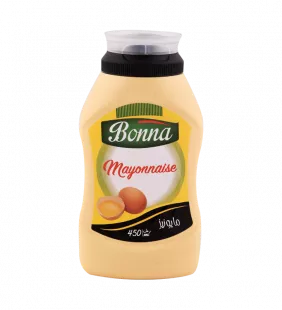BONNA: (68, 19, 213, 284)
